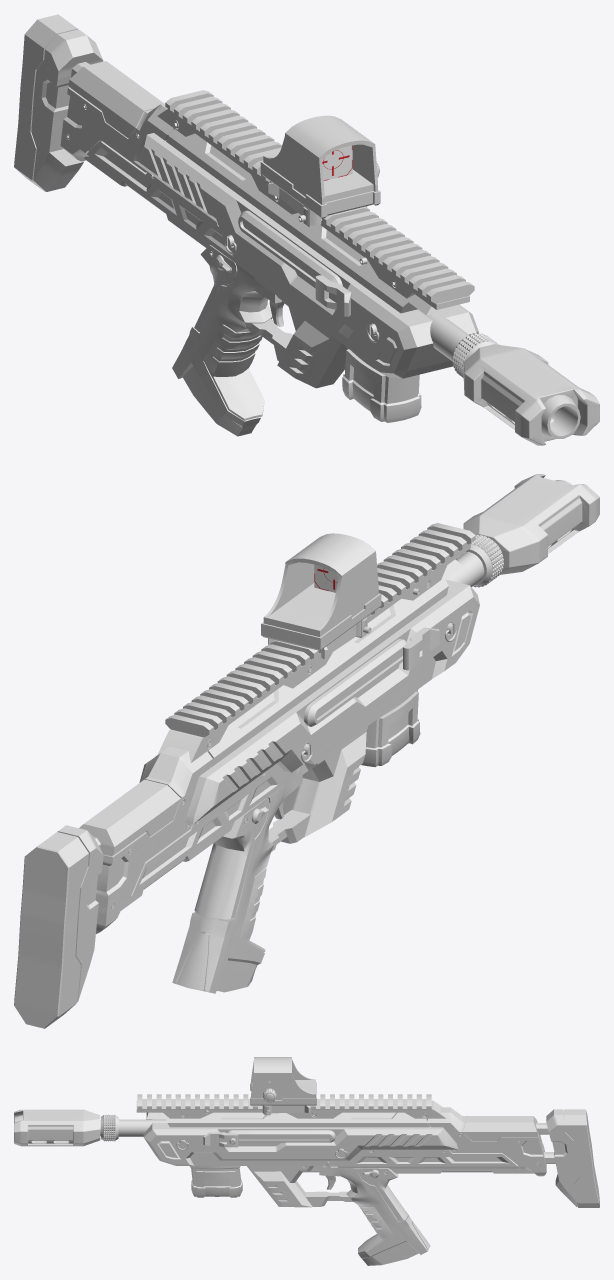
Rendered from gun.fbx.
The picture shows the model from 3 angles, top to bottom: view 1: azimuth 30°, elevation 25°; view 2: azimuth 150°, elevation 25°; view 3: azimuth 270°, elevation 25°; orthographic projection. The views are drawn at different scales.
Visible parts, largest first — view 1: Plane, Cube.001, Cube, Plane.001; view 2: Plane, Cube.001, Cube; view 3: Plane, Cube.001, Cube.
Part boxes in pixels (x1,y1,x2,y2): Plane: [14, 14, 599, 445]; Cube.001: [260, 115, 380, 227]; Cube: [342, 347, 421, 422]; Plane.001: [322, 145, 352, 180]; Plane: [14, 474, 599, 1028]; Cube.001: [261, 533, 381, 659]; Cube: [361, 689, 420, 767]; Plane: [14, 1094, 599, 1265]; Cube.001: [250, 1057, 316, 1115]; Cube: [189, 1166, 242, 1197].
Size of the model in its own units: 5.65 by 20.29 by 52.94.
4 materials, 1 textured.
